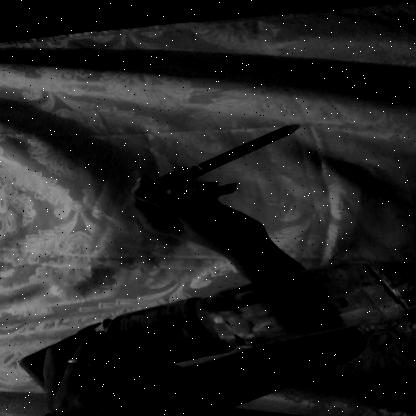Plastic Bottle: (53, 241, 416, 385)
